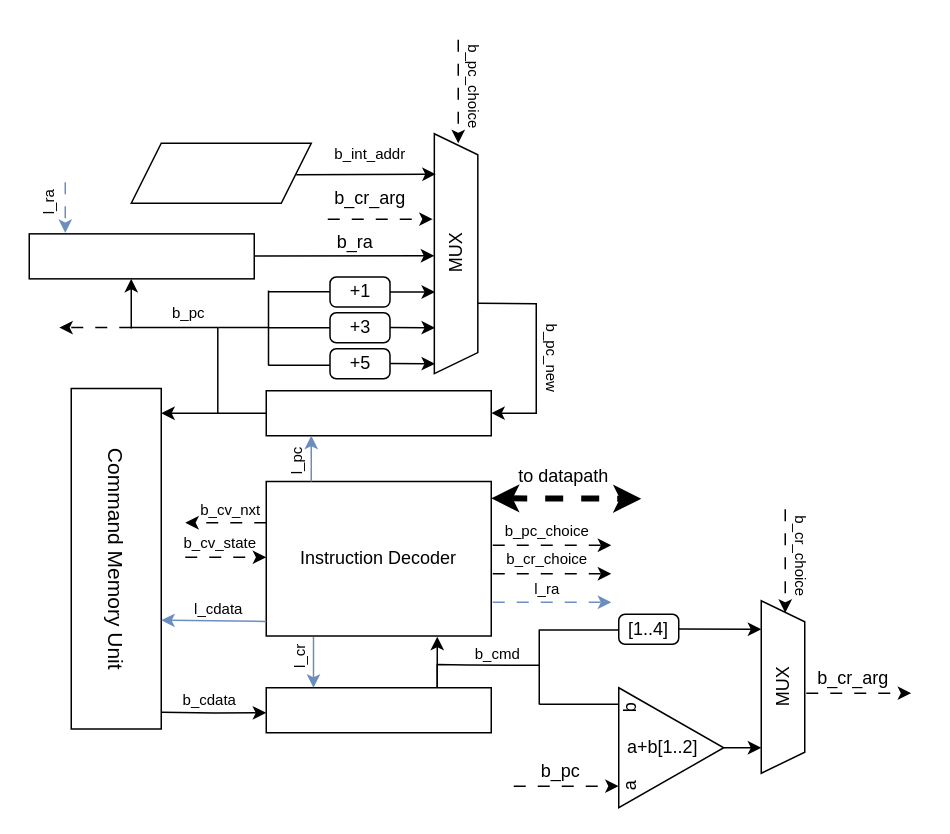
This 950x834 diagram has some shape labels left out. The centre of each missing label's shape, as x and y in pixels:
"0x00000005" goes at point (220, 172).
"CR" goes at point (378, 709).
"PC" goes at point (378, 412).
"RA" goes at point (141, 255).
